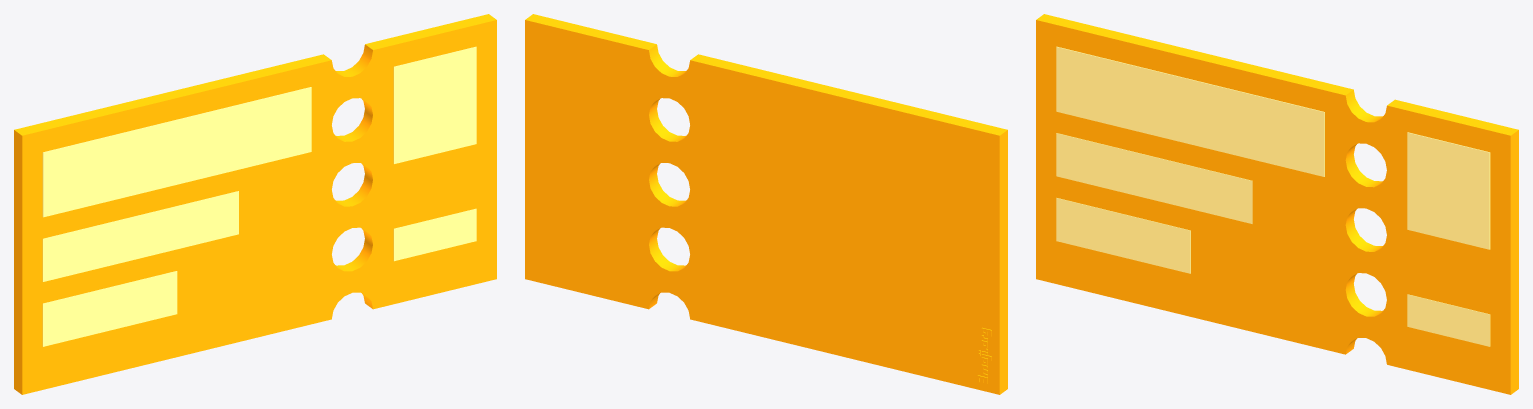
File: ticket.glb
The picture shows the model from 3 angles, left to right: view 1: azimuth 30°, elevation 25°; view 2: azimuth 150°, elevation 25°; view 3: azimuth 330°, elevation 25°; orthographic projection.
Parts seen in each view (by area): view 1: Circle.277; view 2: Circle.277; view 3: Circle.277.
Part boxes in pixels (left/top/right/bottom): Circle.277: left=14, top=14, right=496, bottom=394; Circle.277: left=525, top=14, right=1007, bottom=394; Circle.277: left=1036, top=14, right=1518, bottom=394.
Size of the model in its own units: 2.39 by 1.25 by 0.0795.
1 material, 1 textured.
